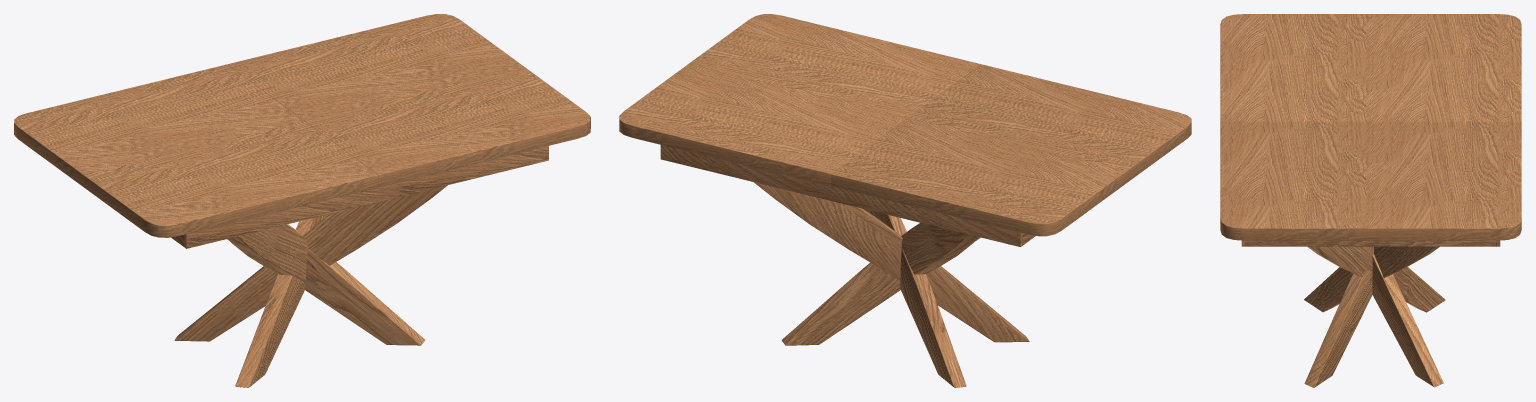
The picture shows the model from 3 angles, left to right: view 1: azimuth 30°, elevation 25°; view 2: azimuth 150°, elevation 25°; view 3: azimuth 270°, elevation 25°; orthographic projection.
Visible parts, largest first — view 1: B07JG45F5B; view 2: B07JG45F5B; view 3: B07JG45F5B.
Boxes of the visible parts, box(x1,y1,x2,y2) form: B07JG45F5B: box(14, 14, 590, 387); B07JG45F5B: box(619, 14, 1191, 387); B07JG45F5B: box(1220, 14, 1521, 387).
Size of the model in its own units: 1.6 by 0.7698 by 0.9499.
Materials: 1 (1 with a texture image).
